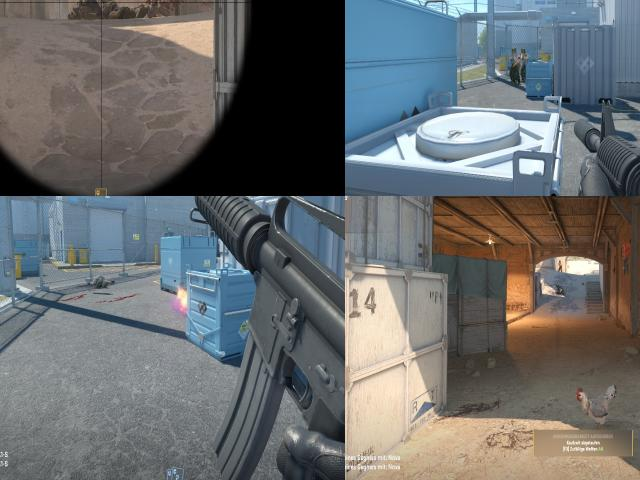Dead: (69, 0, 144, 21), (86, 275, 117, 289), (554, 284, 564, 296)
T: (514, 48, 520, 84), (522, 50, 528, 81), (510, 49, 513, 81), (521, 49, 523, 80), (558, 260, 562, 271)
T-Head: (514, 49, 517, 54), (523, 50, 526, 54), (512, 49, 514, 53), (521, 49, 523, 53), (559, 260, 561, 262)
